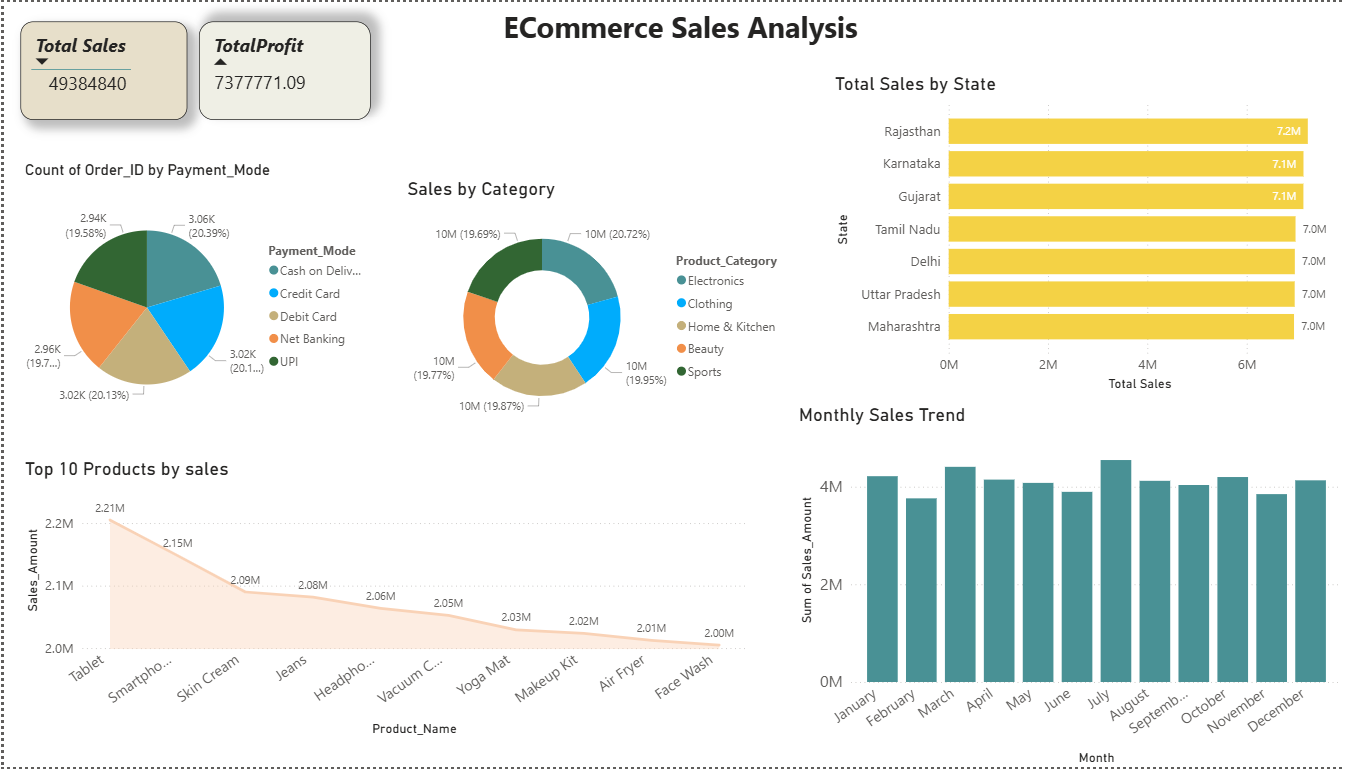

This screenshot's page, from the dashboard's own definition file:
{"tool":"powerbi","page":{"name":"Page 1","canvas":[1490,851],"ordinal":0},"visuals":[{"type":"tableEx","fields":{"Values":["Sum(ecommerce_sales_dataset_15000_r.Sales_Amount)"]},"box":[18.5,22.2,185.2,109.3],"z":0},{"type":"tableEx","fields":{"Values":["Sum(ecommerce_sales_dataset_15000_r.Profit)"]},"box":[216.7,22.2,190.7,109.3],"z":1},{"type":"donutChart","title":"Sales by Category","fields":{"Category":["ecommerce_sales_dataset_15000_r.Product_Category"],"Y":["Sum(ecommerce_sales_dataset_15000_r.Sales_Amount)"]},"box":[442.6,194.4,435.2,287],"z":2},{"type":"clusteredBarChart","fields":{"Category":["ecommerce_sales_dataset_15000_r.State"],"Y":["Sum(ecommerce_sales_dataset_15000_r.Sales_Amount)"]},"box":[918.5,77.8,572.2,357.4],"z":3},{"type":"lineChart","title":"Top 10 Products by sales","fields":{"Category":["ecommerce_sales_dataset_15000_r.Product_Name"],"Y":["Sum(ecommerce_sales_dataset_15000_r.Sales_Amount)"]},"box":[18.5,507.4,811.1,313],"z":4},{"type":"clusteredColumnChart","title":"Monthly Sales Trend","fields":{"Category":["ecommerce_sales_dataset_15000_r.Order_Date.Variation.Date Hierarchy.Month"],"Y":["Sum(ecommerce_sales_dataset_15000_r.Sales_Amount)"]},"box":[877.8,446.3,613,405.6],"z":5},{"type":"pieChart","fields":{"Category":["ecommerce_sales_dataset_15000_r.Payment_Mode"],"Y":["CountNonNull(ecommerce_sales_dataset_15000_r.Order_ID)"]},"box":[18.5,175.9,396.3,305.6],"z":6},{"type":"textbox","box":[442.6,0,616.7,77.8],"z":7}]}

Visuals, with their boxes in screenshot pixels (x1, y1, x2, y2), scaled from the page's 1490x851 canvas onto the 1345x769 screenshot:
tableEx - Sum(ecommerce_sales_dataset_15000_r.Sales_Amount): (x1=17, y1=20, x2=184, y2=119)
tableEx - Sum(ecommerce_sales_dataset_15000_r.Profit): (x1=196, y1=20, x2=368, y2=119)
"Sales by Category" donutChart: (x1=400, y1=176, x2=792, y2=435)
clusteredBarChart - ecommerce_sales_dataset_15000_r.State x Sum(ecommerce_sales_dataset_15000_r.Sales_Amount): (x1=829, y1=70, x2=1344, y2=393)
"Top 10 Products by sales" lineChart: (x1=17, y1=459, x2=749, y2=741)
"Monthly Sales Trend" clusteredColumnChart: (x1=792, y1=403, x2=1344, y2=768)
pieChart - ecommerce_sales_dataset_15000_r.Payment_Mode x CountNonNull(ecommerce_sales_dataset_15000_r.Order_ID): (x1=17, y1=159, x2=374, y2=435)
textbox: (x1=400, y1=0, x2=956, y2=70)
